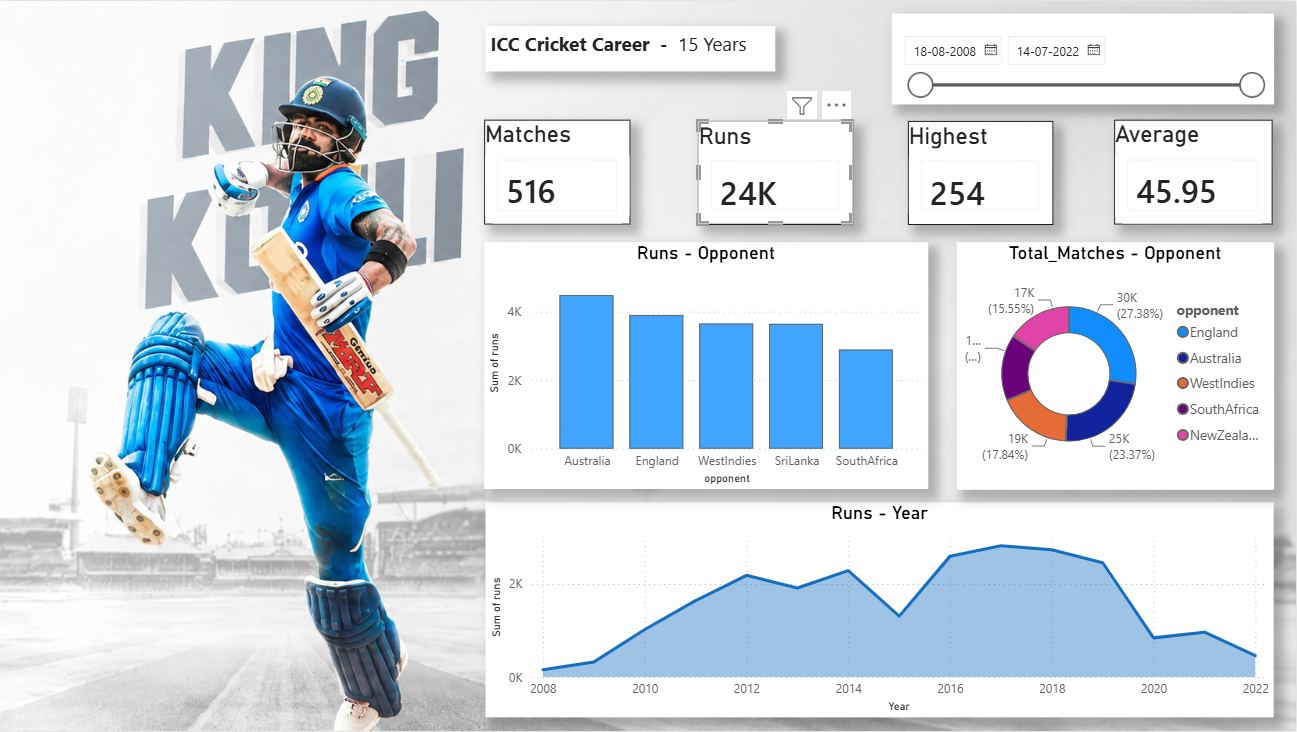

What the dashboard file says about the page in this screenshot:
{"tool":"powerbi","page":{"name":"Page 1","canvas":[1280,720],"ordinal":0},"visuals":[{"type":"cardVisual","title":"Runs","fields":{"Data":["Sum(Source.runs)"]},"box":[689.9,118.3,152.8,102.3],"z":0},{"type":"cardVisual","title":"Highest","fields":{"Data":["Max(Source.runs)"]},"box":[896.6,118.1,142.9,102.1],"z":1000},{"type":"areaChart","title":"Runs - Year","fields":{"Category":["Source.date.Variation.Date Hierarchy.Year"],"Y":["Sum(Source.runs)"]},"box":[480.2,493.4,776.9,212.3],"z":2000},{"type":"donutChart","title":"Total_Matches - Opponent","fields":{"Y":["Sum(Source.Match_No)"],"Category":["Source.opponent"]},"box":[944.6,237.7,312.5,243.7],"z":3000},{"type":"cardVisual","title":"Average","fields":{"Data":["Avg(Source.runs)"]},"box":[1100.7,116.6,156,103.5],"z":4000},{"type":"cardVisual","title":"Matches","fields":{"Data":["CountNonNull(Source.match)"]},"box":[479.6,116.6,144.3,103.5],"z":5000},{"type":"textbox","box":[480.2,24.1,285.9,44.6],"z":6000},{"type":"slicer","fields":{"Values":["Source.date"]},"box":[880.7,12.1,376.4,89.3],"z":7000},{"type":"columnChart","title":"Runs - Opponent","fields":{"Y":["Sum(Source.runs)"],"Category":["Source.opponent"]},"box":[479.6,237.6,437.4,243.5],"z":8000}]}

Visuals, with their boxes in screenshot pixels (x1, y1, x2, y2), scaled from the page's 1280x720 canvas onto the 1297x732 screenshot:
"Runs" cardVisual: bbox=[699, 120, 854, 224]
"Highest" cardVisual: bbox=[909, 120, 1053, 224]
"Runs - Year" areaChart: bbox=[487, 502, 1274, 717]
"Total_Matches - Opponent" donutChart: bbox=[957, 242, 1274, 489]
"Average" cardVisual: bbox=[1115, 119, 1273, 224]
"Matches" cardVisual: bbox=[486, 119, 632, 224]
textbox: bbox=[487, 25, 776, 70]
slicer - Source.date: bbox=[892, 12, 1274, 103]
"Runs - Opponent" columnChart: bbox=[486, 242, 929, 489]
